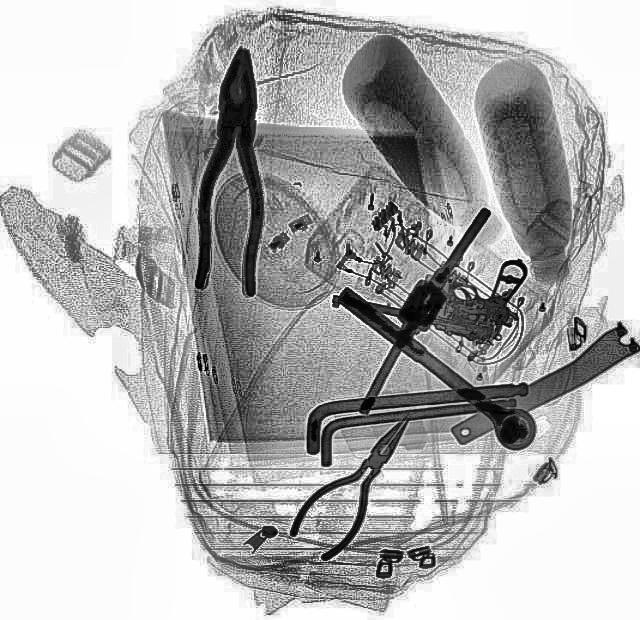Gun: (326, 223, 530, 349)
Pliers: (278, 398, 436, 564), (192, 45, 274, 297)
